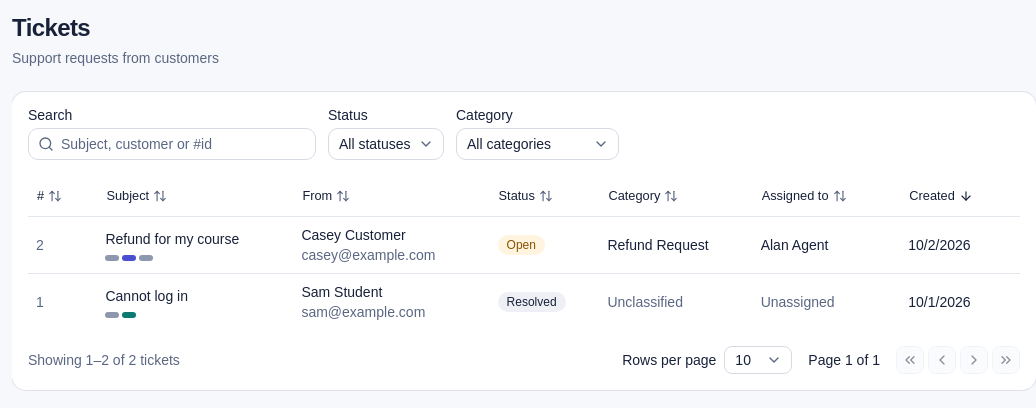
Scenario: TicketsPage › filtering › shows a no-matches message and keeps the filters when nothing matches
Expected: the table is shown, [28,176,1020,330]
Select "Closed" in the dropdown labelled "Status" at [386, 144], box [328,128,444,160]
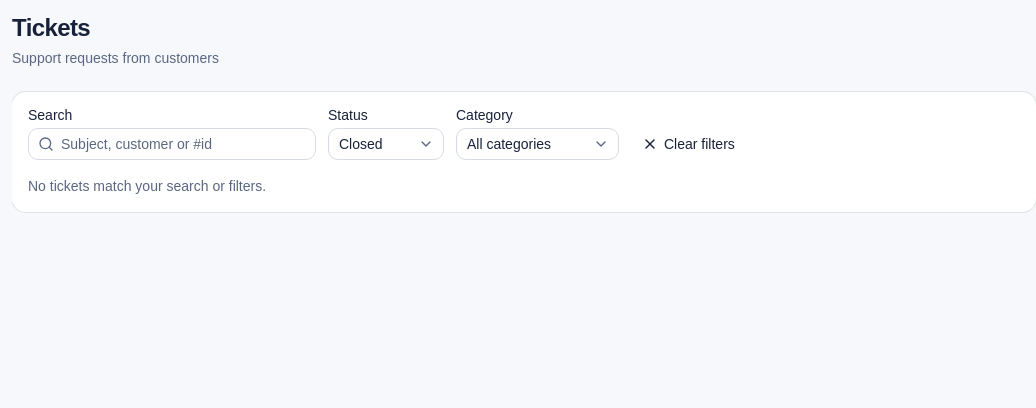
Expected: the text "No tickets match your search or filters." is shown, [28,178,266,194]
Expected: the button "Clear filters" is shown, [631,128,746,160]
